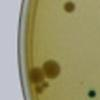Blue_green: (84, 87, 98, 100)
brown: (40, 58, 62, 79), (26, 67, 46, 84), (58, 0, 79, 16), (40, 79, 50, 90), (34, 85, 44, 95)
